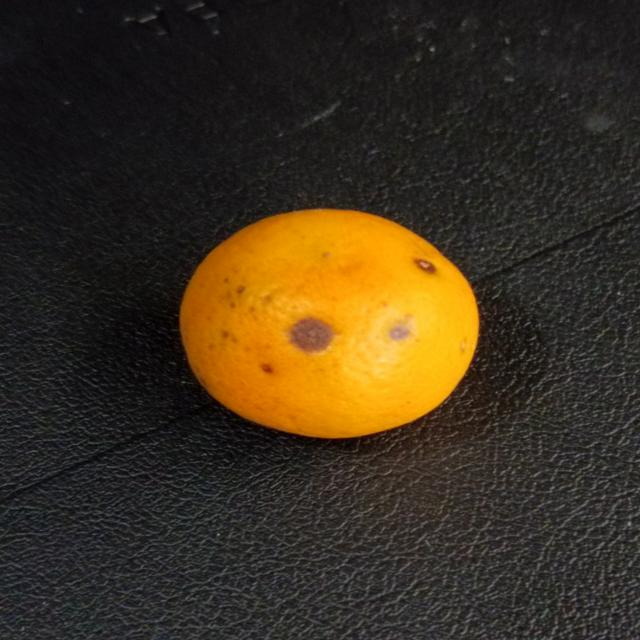black spot: (172, 205, 482, 441)
